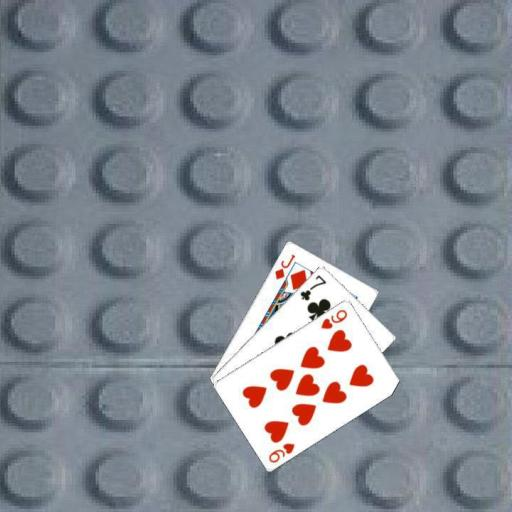card-corner: (296, 272, 328, 302), (265, 440, 297, 464), (318, 306, 349, 330), (272, 251, 296, 281)
